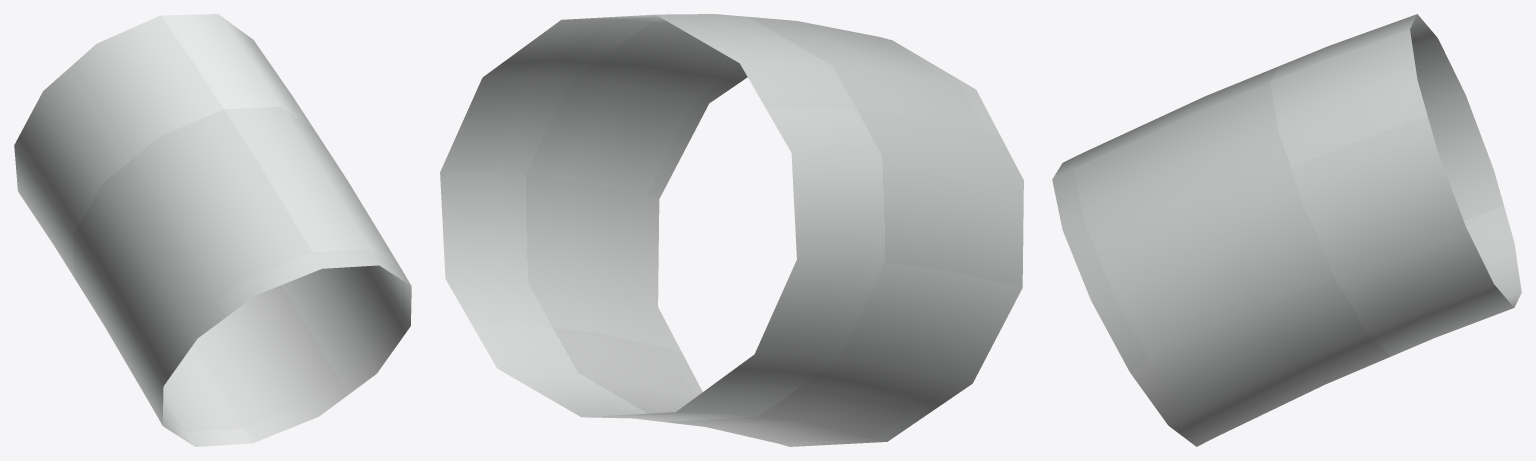
The model's file is luminairearm_truss8ftstraightdouble_c5.obj.
3 renders of one model, left to right at view 1: azimuth 30°, elevation 25°; view 2: azimuth 150°, elevation 25°; view 3: azimuth 270°, elevation 25°, orthographic. The views are drawn at different scales.
Parts seen in each view (by area): view 1: luminairearm_truss8ftstraightdouble_c5; view 2: luminairearm_truss8ftstraightdouble_c5; view 3: luminairearm_truss8ftstraightdouble_c5.
Boxes of the visible parts, <box> form: luminairearm_truss8ftstraightdouble_c5: <box>14,14,411,446</box>; luminairearm_truss8ftstraightdouble_c5: <box>440,14,1023,446</box>; luminairearm_truss8ftstraightdouble_c5: <box>1052,14,1521,446</box>.
Size of the model in its own units: 0.1917 by 0.2675 by 0.2839.
